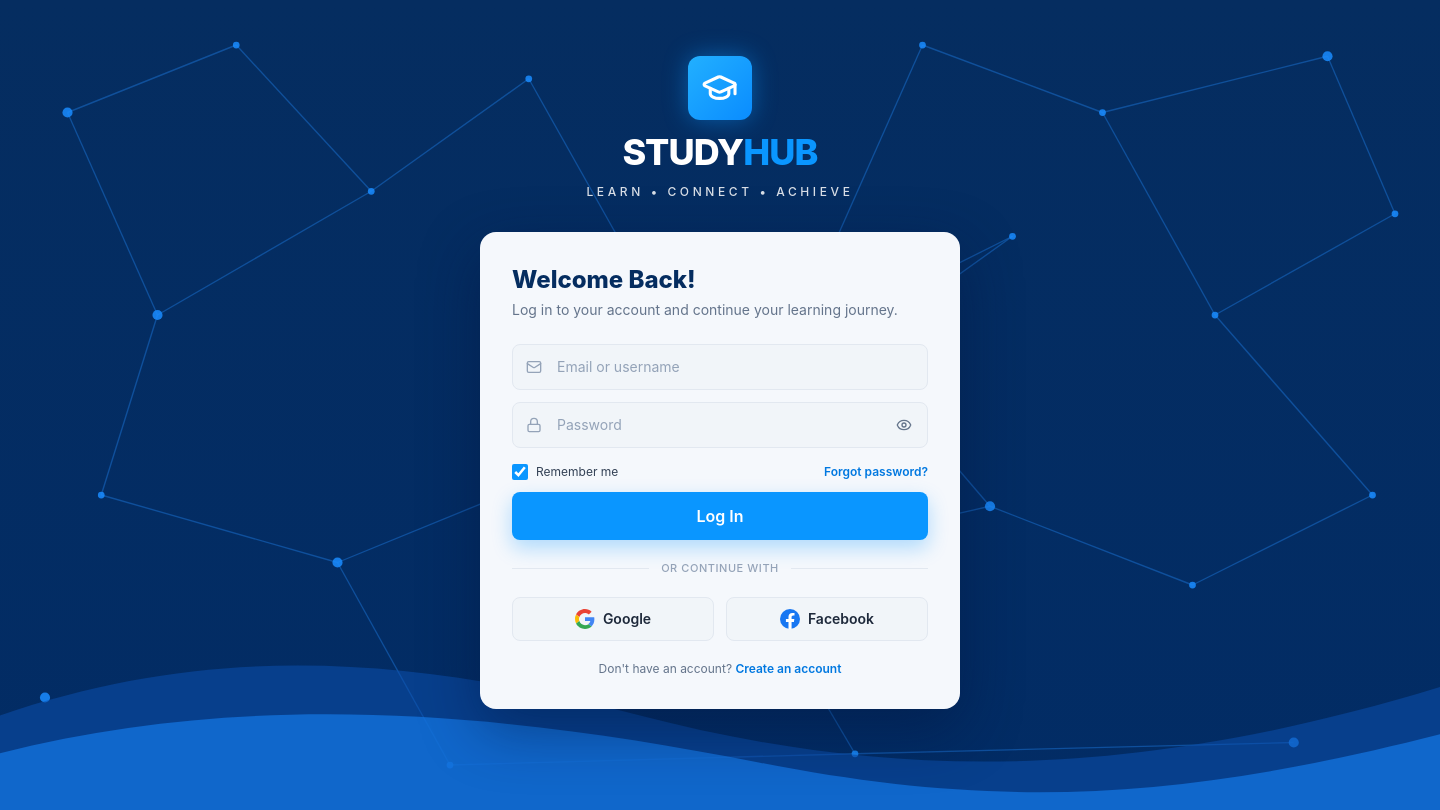
Test: unconfigured social login does not pretend to work
Click the button "Google" at (613, 618), box [512, 596, 714, 640]
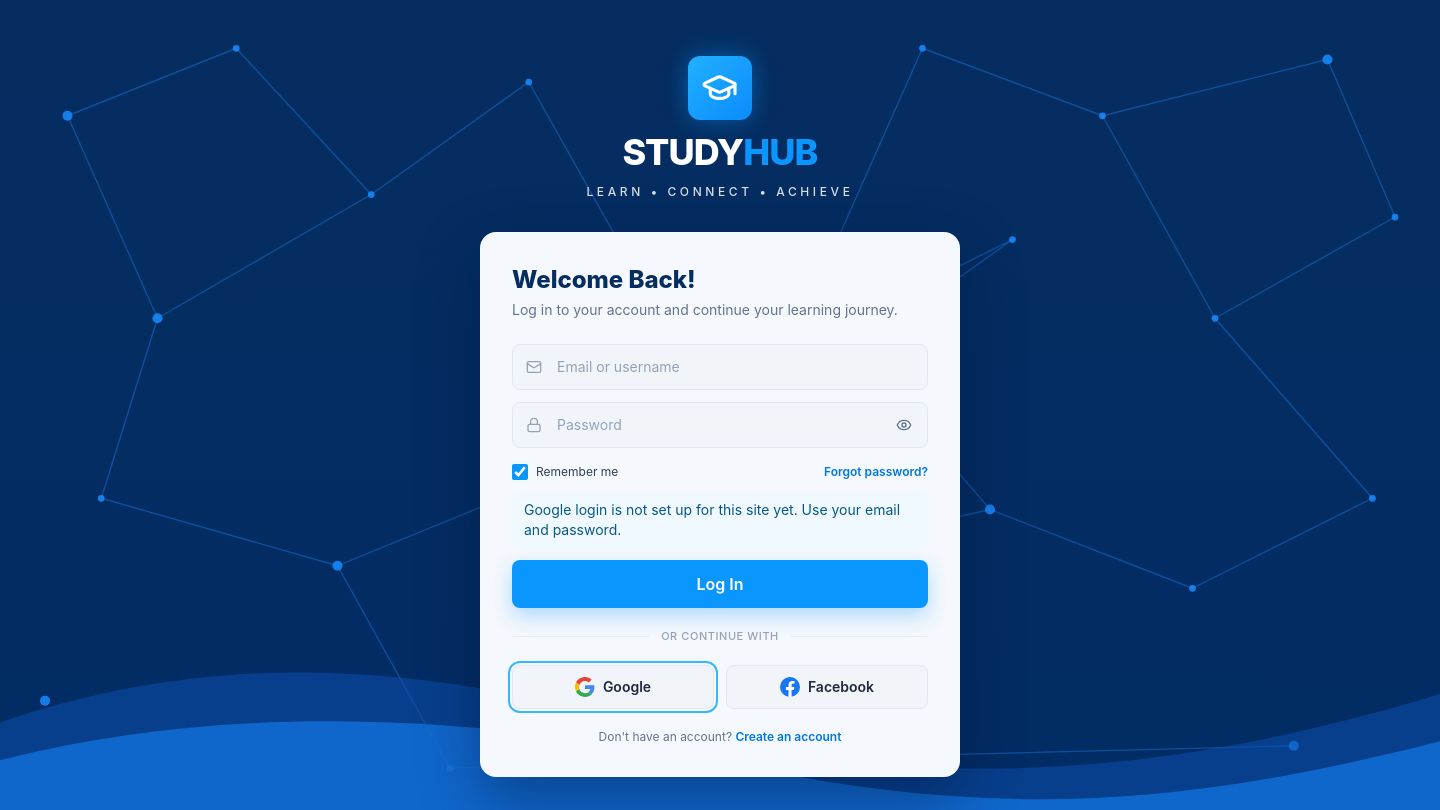
Now the message shows "not set up", box [524, 501, 900, 538]
